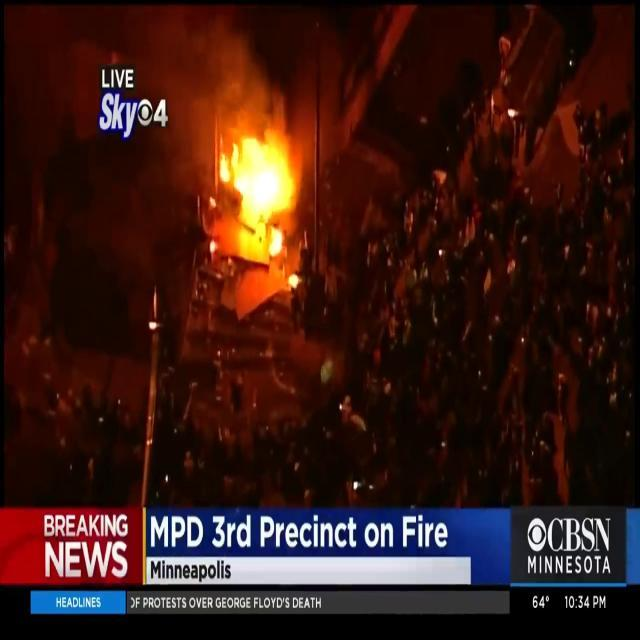Fire: (213, 122, 307, 263)
